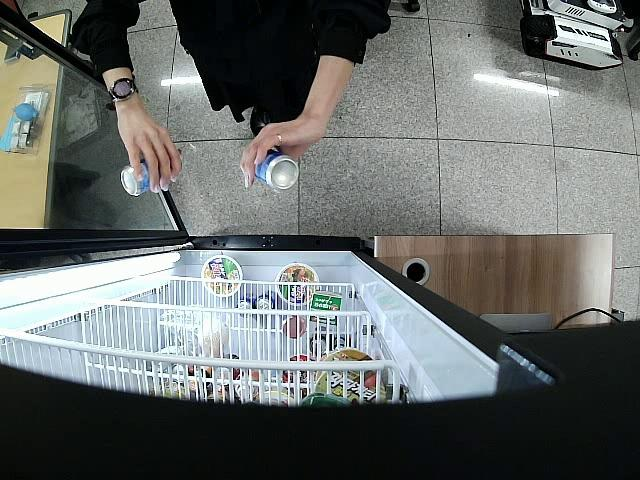00_hand: (239, 118, 327, 190), (116, 105, 183, 195)
15_letsbe: (256, 151, 298, 191), (120, 160, 154, 197)
